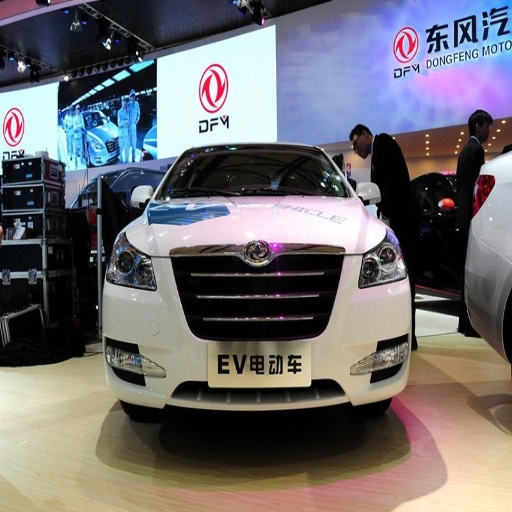front_bumper: (102, 236, 412, 407)
front_right_light: (106, 230, 157, 290)
hood: (145, 198, 384, 255)
